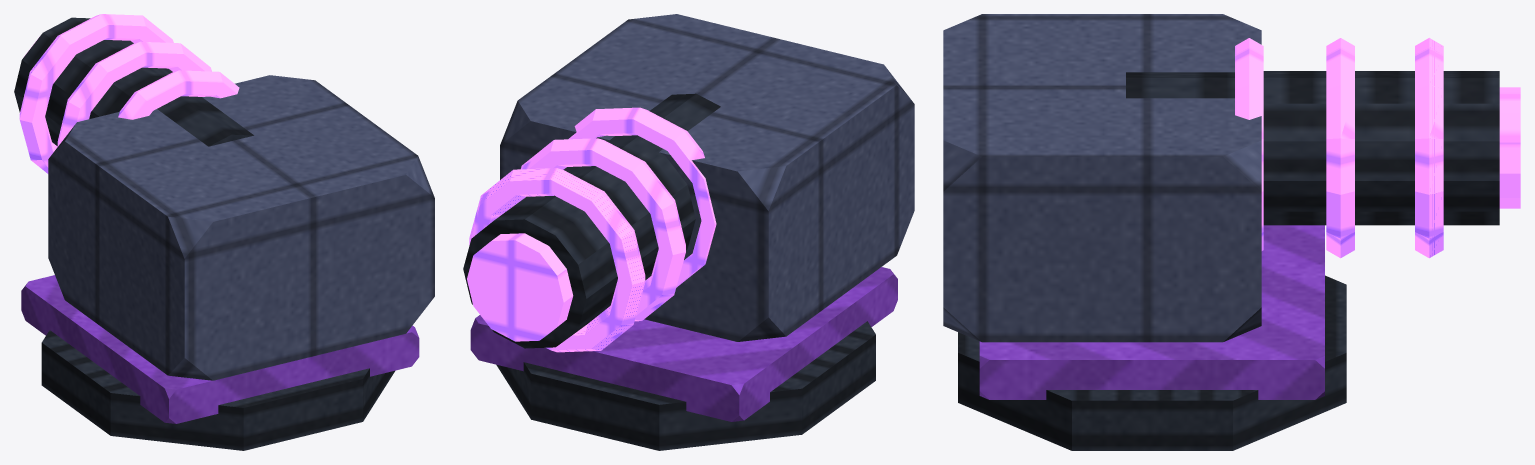
Rendered from eq_plasma_cannon.glb.
The picture shows the model from 3 angles, left to right: view 1: azimuth 30°, elevation 25°; view 2: azimuth 150°, elevation 25°; view 3: azimuth 270°, elevation 25°; orthographic projection. The views are drawn at different scales.
Visible parts, largest first — view 1: eq_plasma_cannon; view 2: eq_plasma_cannon; view 3: eq_plasma_cannon.
Part boxes in pixels (x1,y1,x2,y2): eq_plasma_cannon: [14, 14, 434, 450]; eq_plasma_cannon: [463, 14, 914, 450]; eq_plasma_cannon: [943, 14, 1520, 450].
Size of the model in its own units: 1.4 by 1.28 by 2.09.
1 material, 1 textured.
